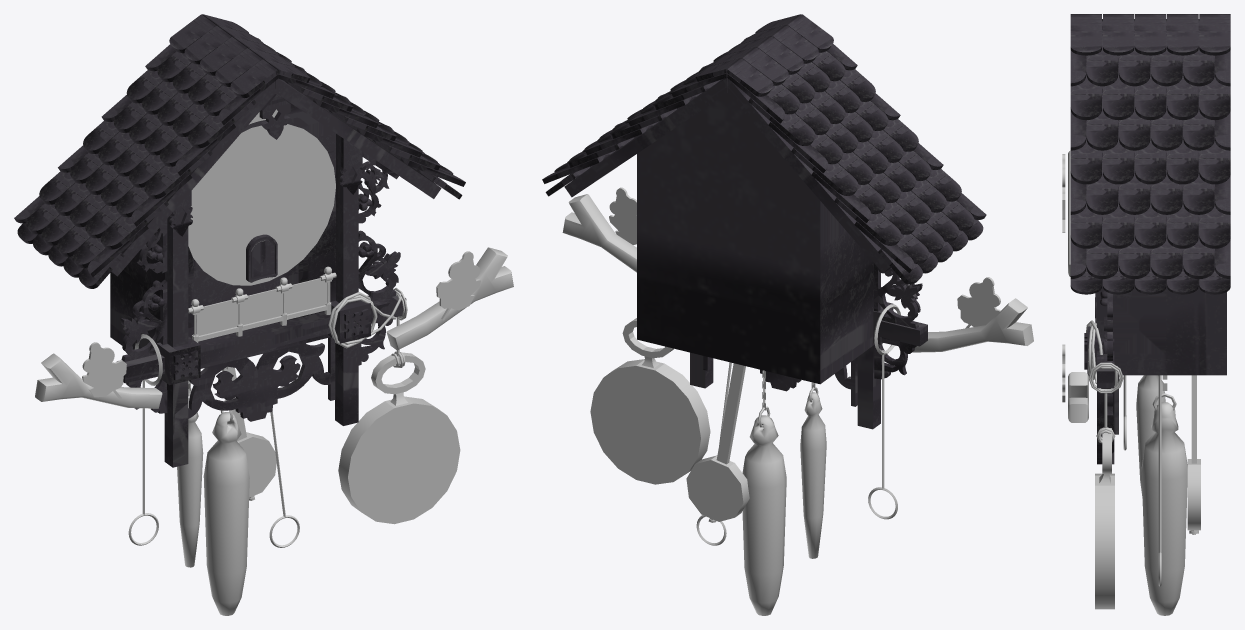
Rendered from CukooClock.fbx.
3 renders of one model, left to right at view 1: azimuth 30°, elevation 25°; view 2: azimuth 150°, elevation 25°; view 3: azimuth 270°, elevation 25°, orthographic. The views are drawn at different scales.
Visible parts, largest first — view 1: Body, Object071, Object073, Object087, Object086, Object081, Object082, Object076, Object084; view 2: Body, Object071, Object087, Object082, Object081; view 3: Body, Object087, Object071, Object082, Object086.
Part boxes in pixels (x1=…): Body: x1=14, y1=14, x2=465, y2=467; Object071: x1=35, y1=247, x2=513, y2=547; Object073: x1=188, y1=124, x2=335, y2=285; Object087: x1=177, y1=398, x2=249, y2=615; Object086: x1=122, y1=137, x2=400, y2=348; Object081: x1=436, y1=251, x2=480, y2=320; Object082: x1=82, y1=342, x2=126, y2=399; Object076: x1=240, y1=181, x2=283, y2=237; Object084: x1=259, y1=94, x2=290, y2=139; Body: x1=542, y1=14, x2=986, y2=429; Object071: x1=562, y1=194, x2=1033, y2=545; Object087: x1=742, y1=392, x2=826, y2=615; Object082: x1=957, y1=277, x2=1000, y2=328; Object081: x1=609, y1=187, x2=636, y2=244; Body: x1=1070, y1=14, x2=1230, y2=464; Object087: x1=1136, y1=375, x2=1187, y2=615; Object071: x1=1068, y1=150, x2=1200, y2=609; Object082: x1=1062, y1=154, x2=1065, y2=232; Object086: x1=1100, y1=290, x2=1107, y2=353.
Bounding box in the file's own units: 197 × 229 × 58.15.
